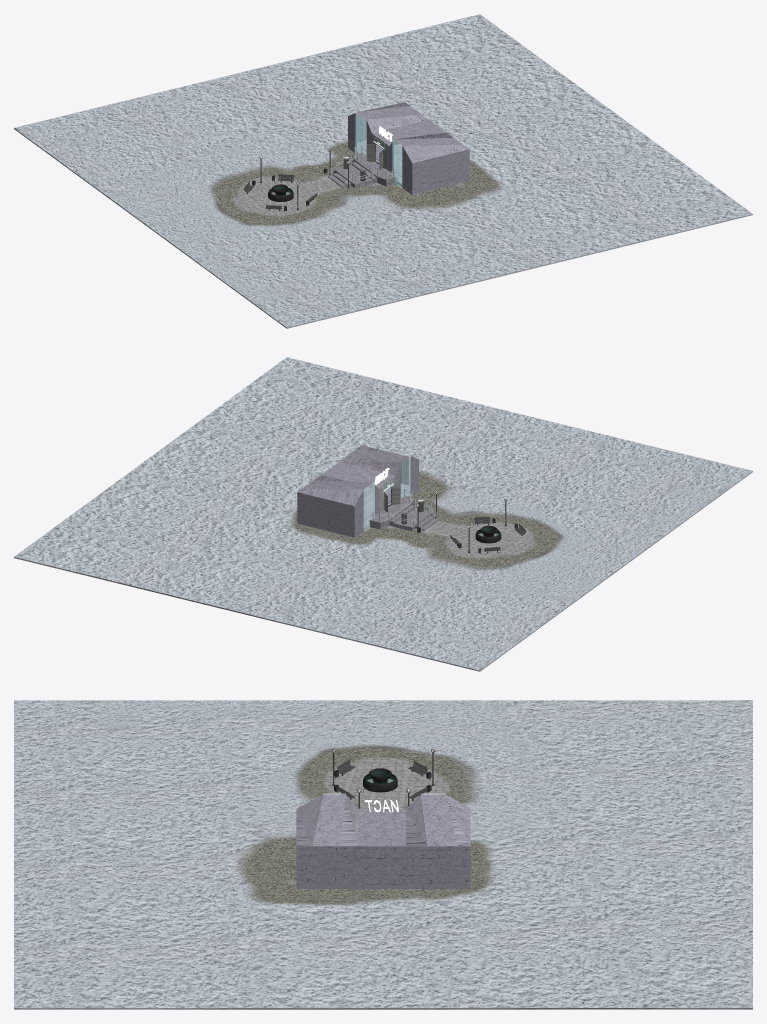
File: MuseumFast.gltf
3 views of the same model, one above another, from view 1: azimuth 30°, elevation 25°; view 2: azimuth 150°, elevation 25°; view 3: azimuth 270°, elevation 25° (orthographic). The views are drawn at different scales.
Visible parts, largest first — view 1: Площадка, Здание, Лесница, Стекла; view 2: Площадка, Здание, Лесница, Стекла; view 3: Площадка, Здание, Circle.
Part boxes in pixels (x1=…): Площадка: x1=14, y1=14, x2=752, y2=328; Здание: x1=348, y1=102, x2=469, y2=194; Лесница: x1=328, y1=152, x2=397, y2=188; Стекла: x1=355, y1=112, x2=401, y2=187; Площадка: x1=14, y1=357, x2=752, y2=671; Здание: x1=297, y1=445, x2=418, y2=537; Лесница: x1=369, y1=495, x2=438, y2=531; Стекла: x1=364, y1=456, x2=410, y2=531; Площадка: x1=14, y1=700, x2=752, y2=1009; Здание: x1=296, y1=794, x2=470, y2=888; Circle: x1=363, y1=768, x2=397, y2=792.
Bounding box in the file's own units: 202 × 21.6 × 204.
Materials: 20 (5 with a texture image).
